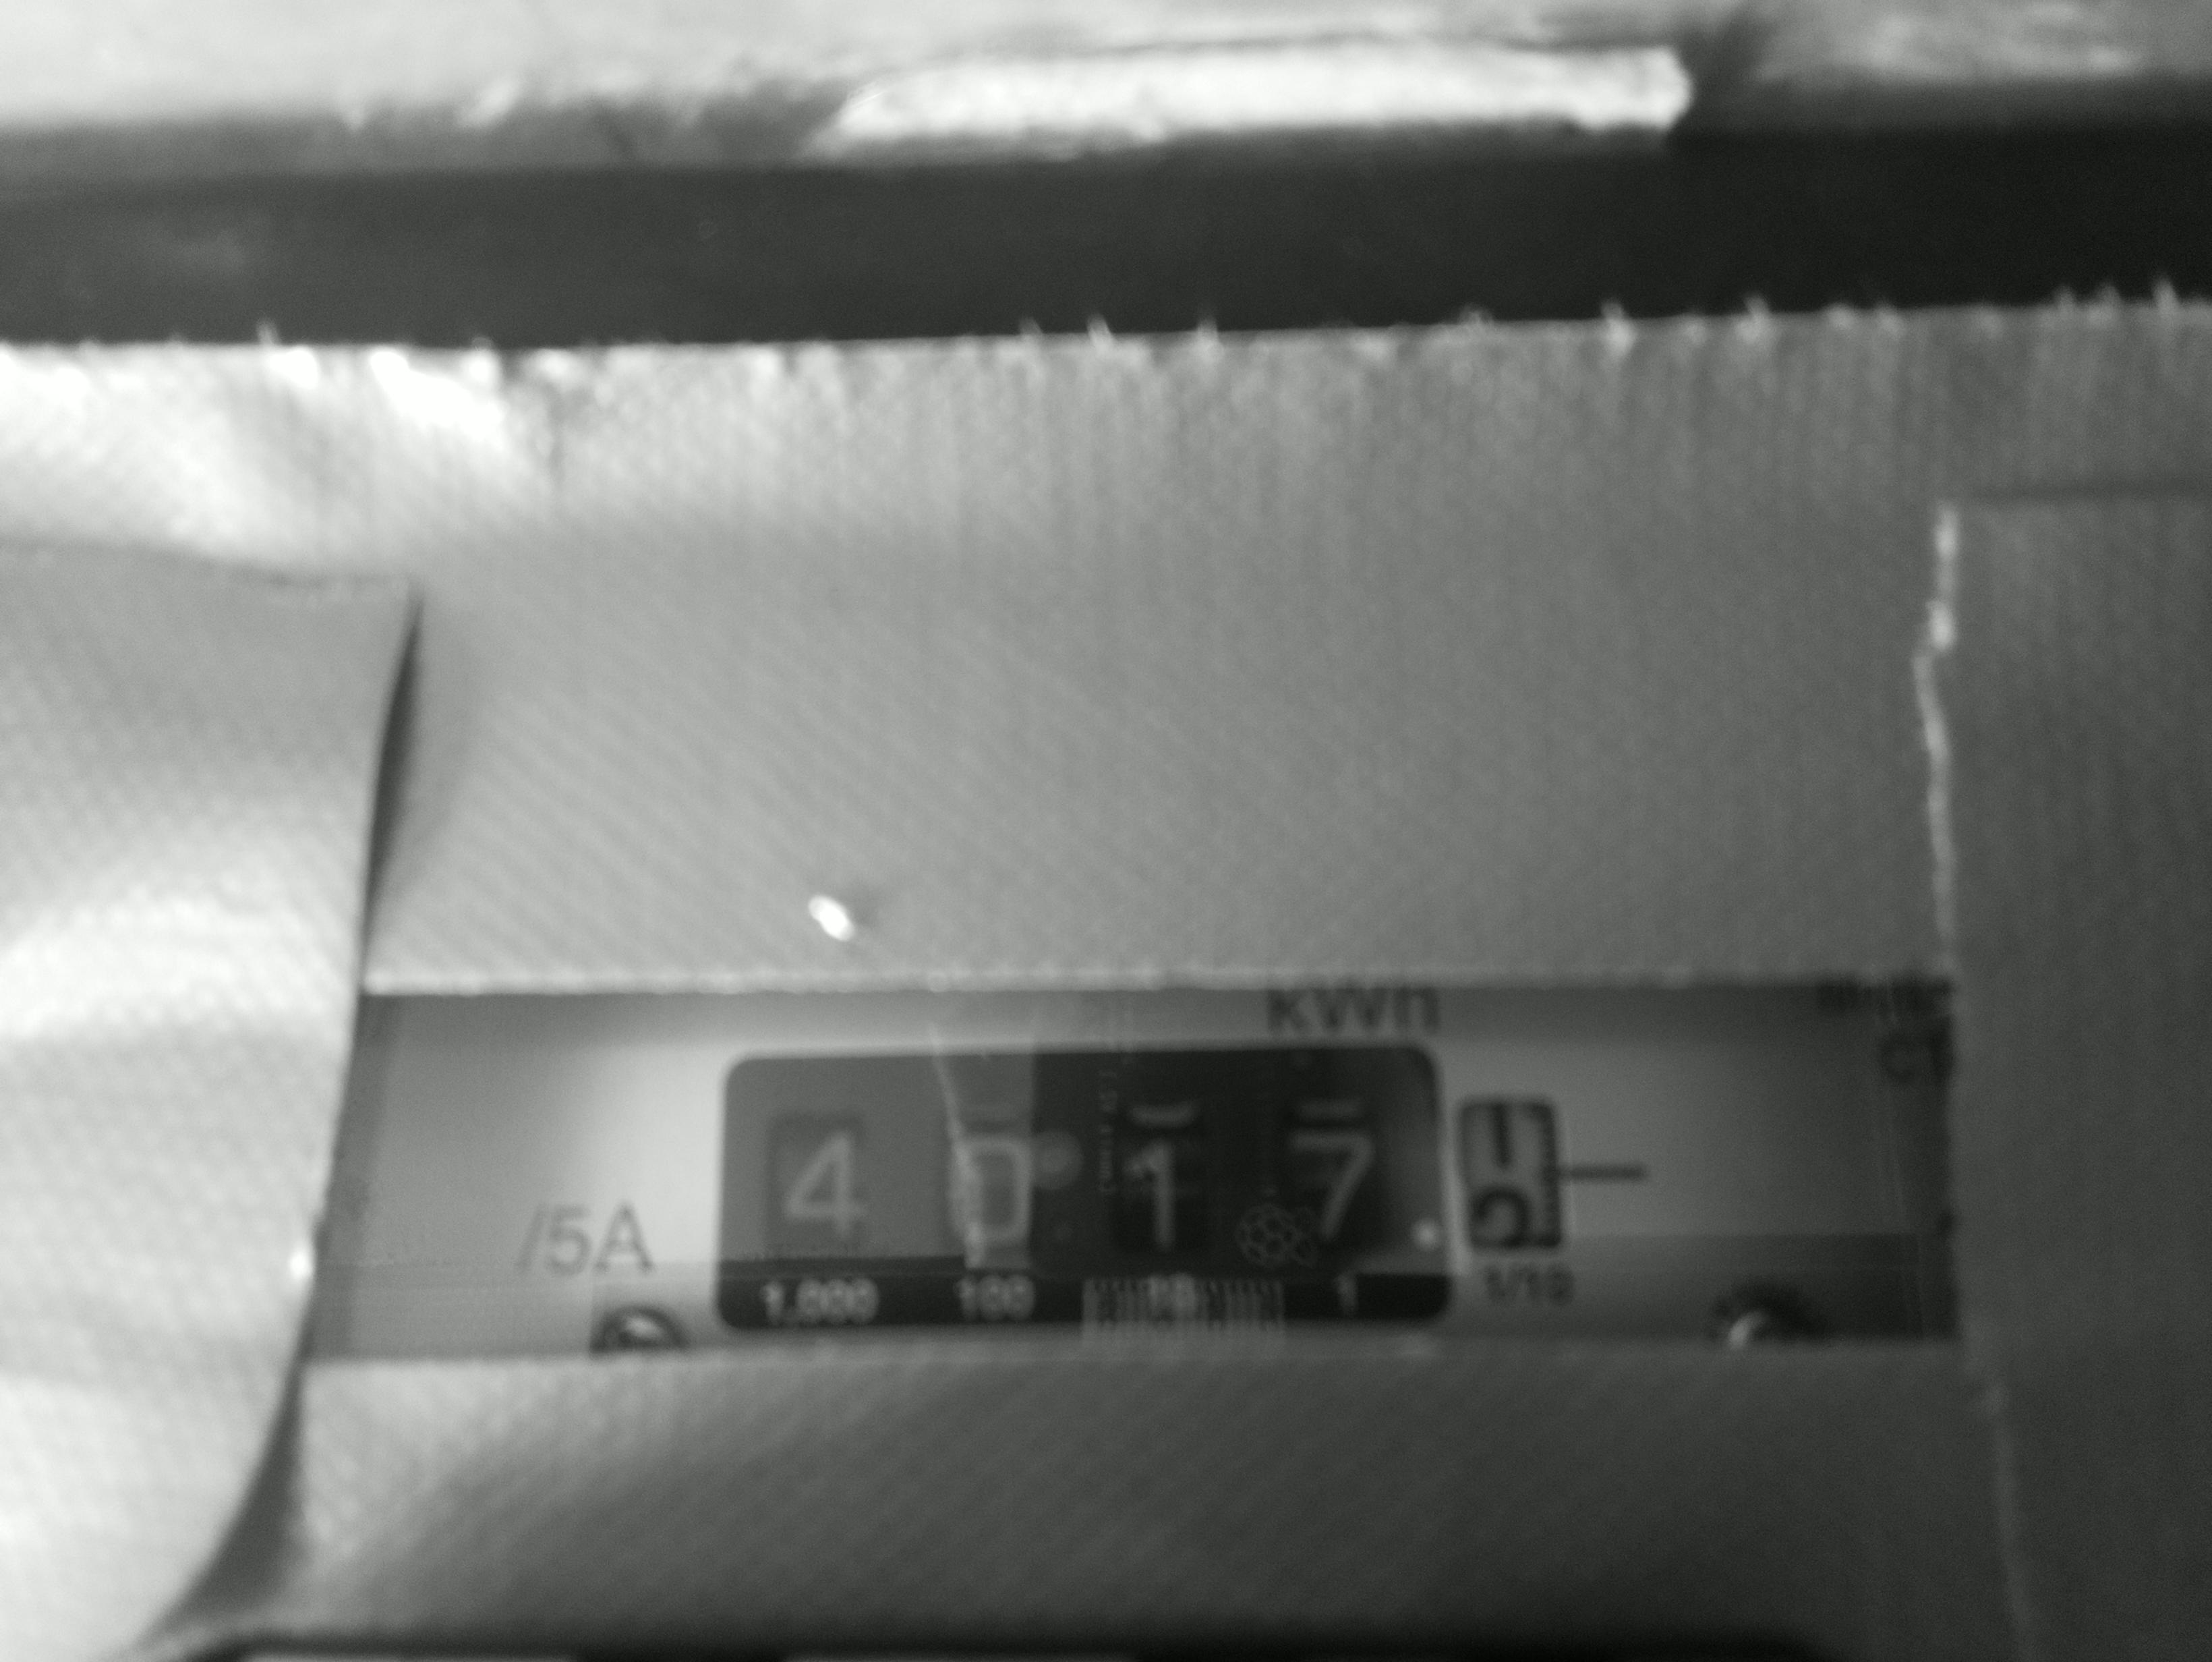meter_box: (693, 1032, 1597, 1356)
